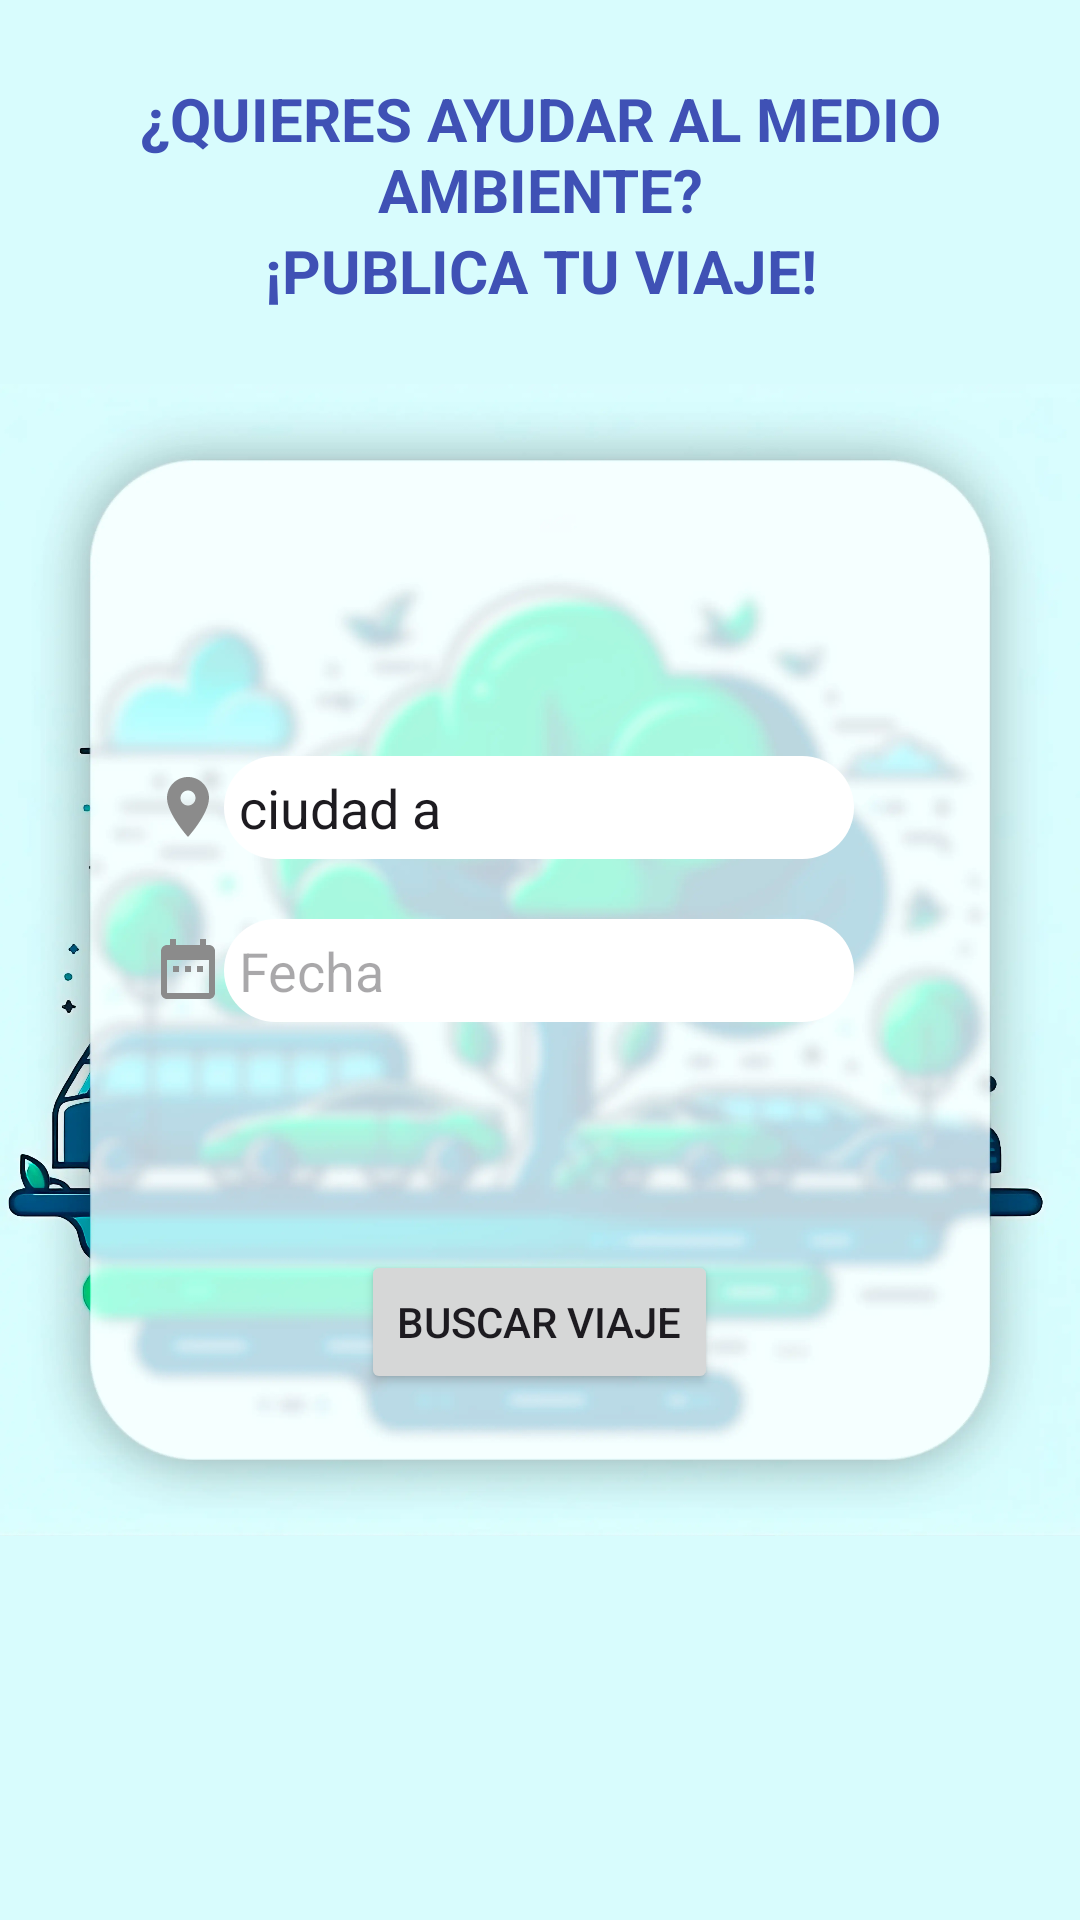

Named icons in this screenshot (1080 x 1920) and their centers, (x,y):
date range: (188,969)
location on: (188,807)
